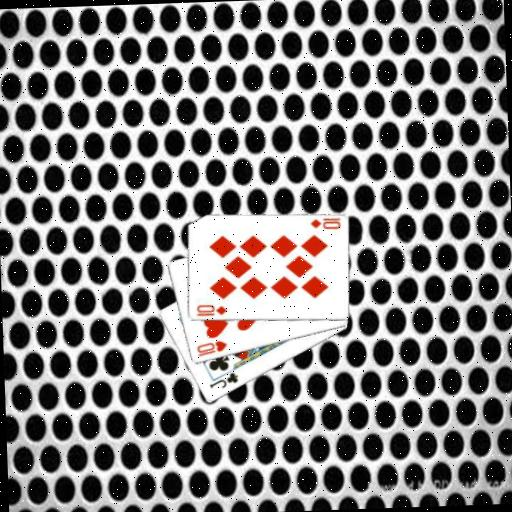10D: (193, 300, 228, 317), (306, 215, 342, 231)
10H: (193, 337, 229, 358)
JC: (206, 369, 240, 391)
